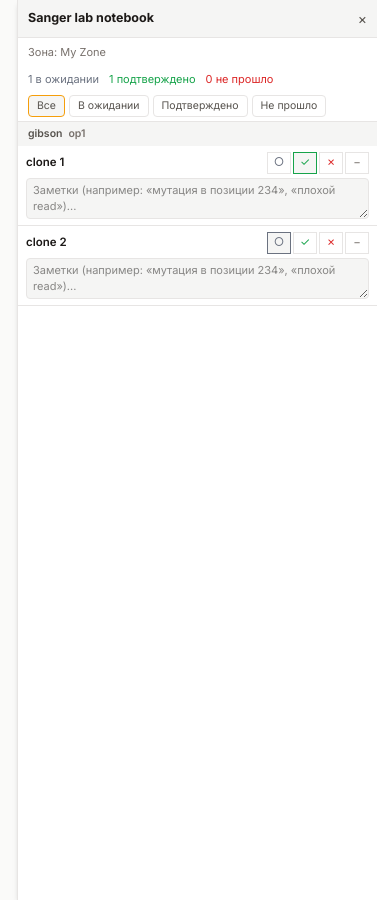
it: T10 K7 — SangerLabNotebook › filter "verified" hides non-verified rows
Click the button with test id "sanger-filter-verified".
click(200, 106)  # box [152,95,248,117]
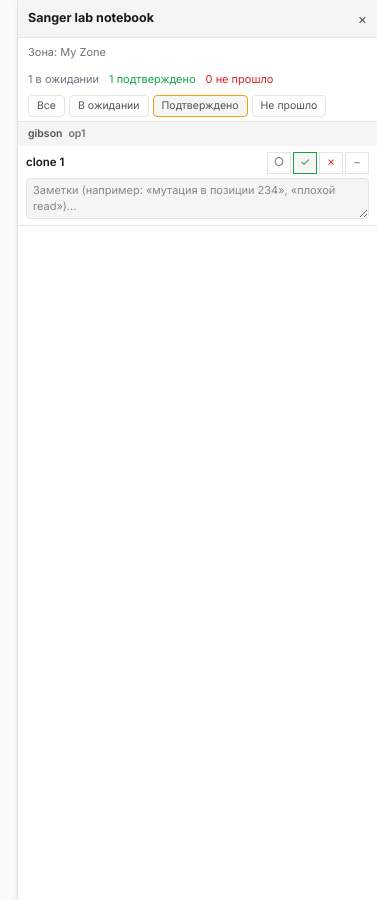
Expected: the number of elements with test id "sanger-clone-row" is 1, [18,146,376,226]
